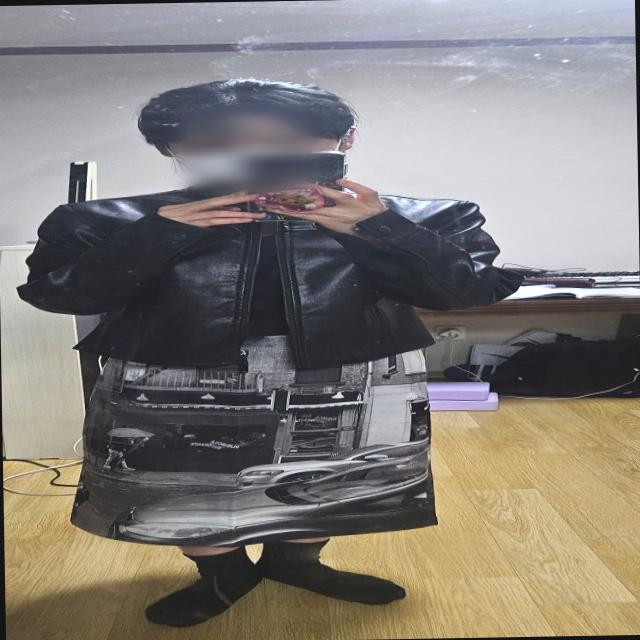jacket: (18, 182, 519, 376)
skirt: (68, 331, 450, 548)
